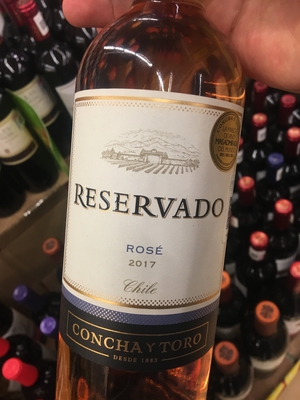reservado rose: (55, 6, 259, 399)
